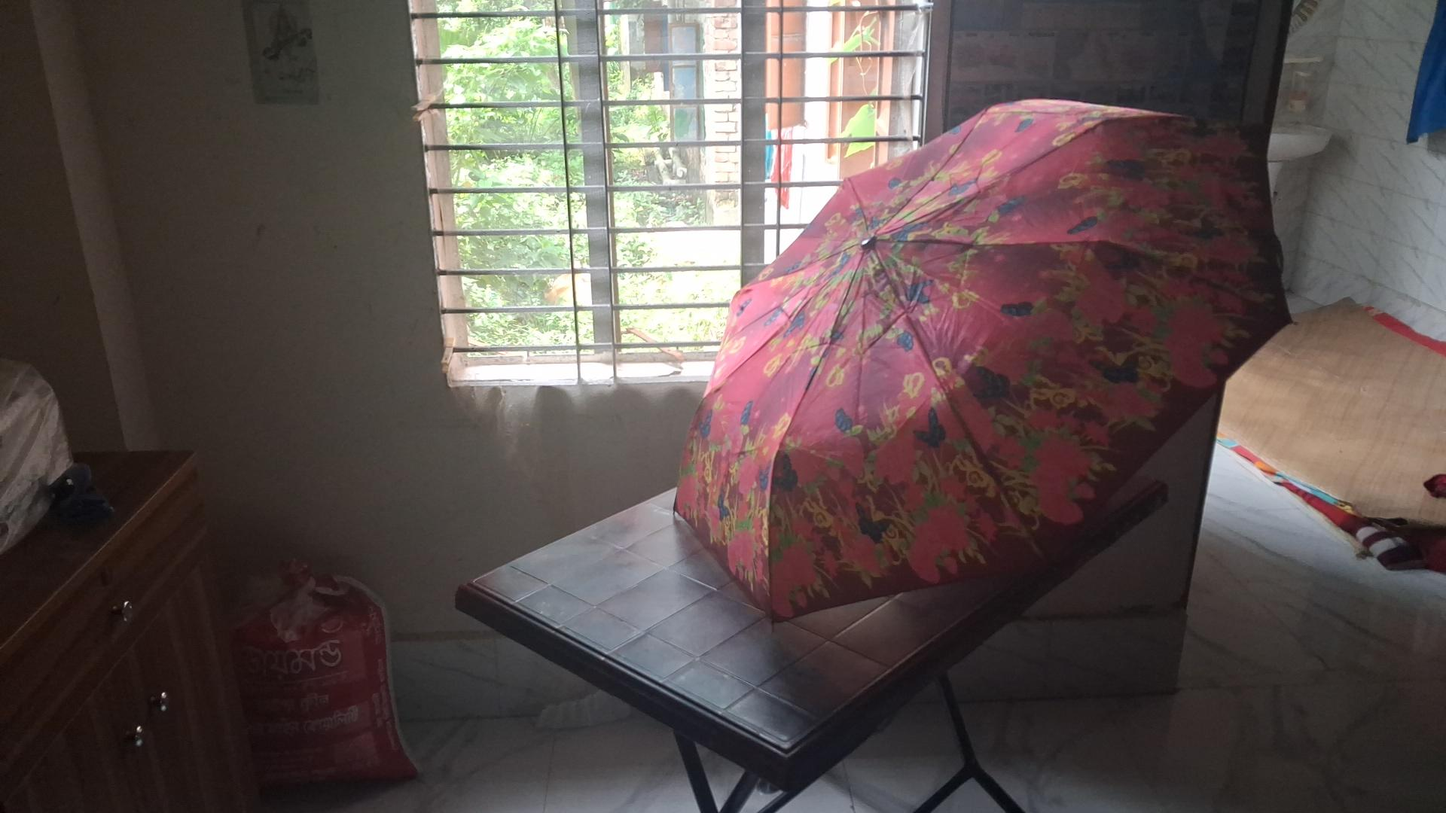Bag: (219, 551, 423, 813)
Photo: (239, 0, 329, 103)
Table: (462, 473, 1178, 813)
Umbrella: (673, 97, 1293, 625)
Window: (406, 3, 937, 376)
